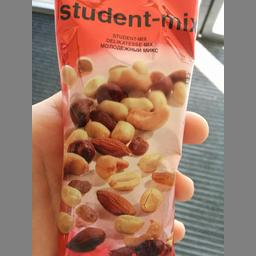nuts: (52, 0, 202, 255)
